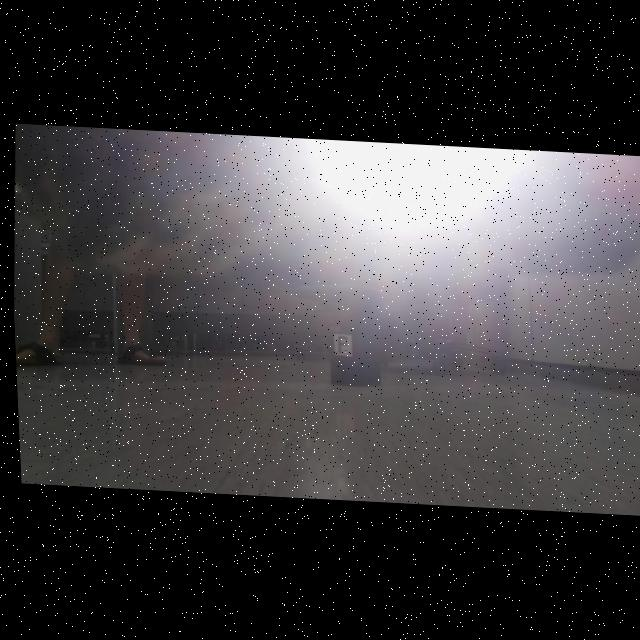F: (335, 336, 345, 353)
